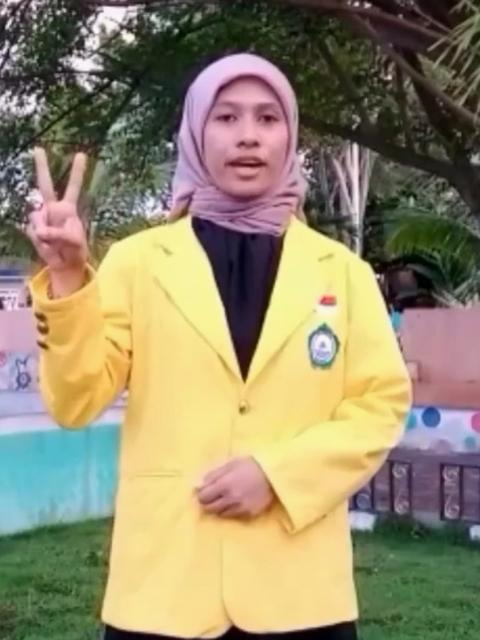V: (16, 144, 96, 280)
